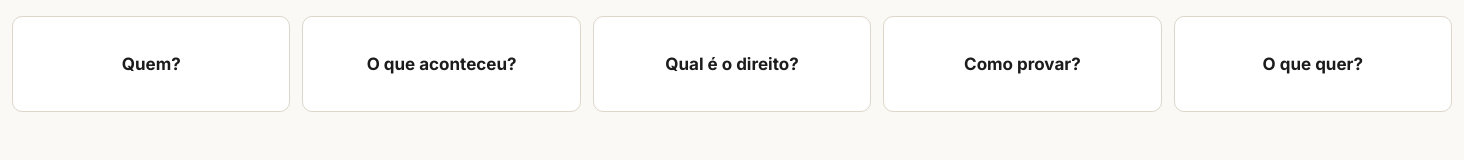
CartoesCincoPerguntas › tocar um cartão vira e mostra a resposta, com aria-pressed="true"
Step 1. Click the button "Quem?" → (151, 64), box [12,16,290,112]
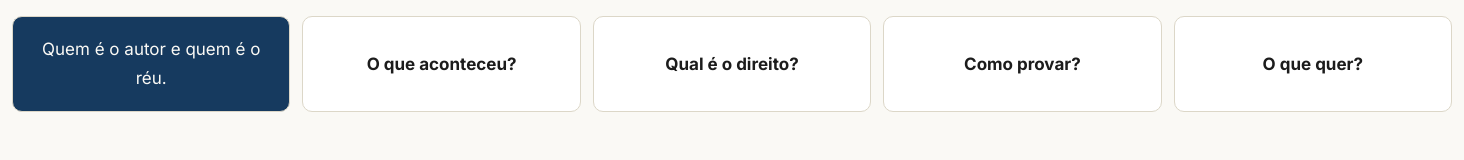
Now the button "Quem é o autor e quem é o réu." is shown, box [12,16,290,112]
